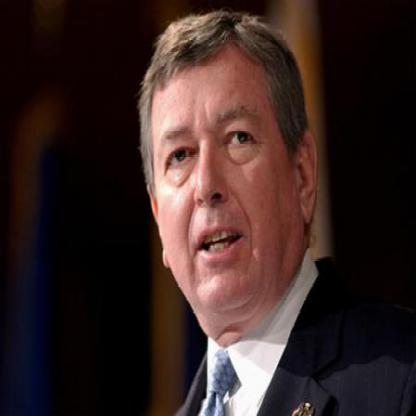face: (142, 14, 299, 320)
